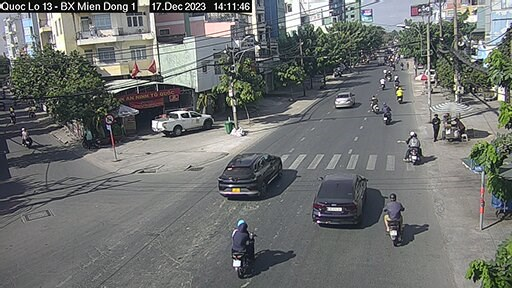car: (216, 149, 282, 199), (310, 173, 369, 225), (149, 109, 215, 135), (333, 90, 356, 109)
motorbike: (229, 220, 259, 279), (382, 193, 408, 249), (403, 129, 429, 170), (370, 92, 383, 115), (380, 103, 392, 126), (396, 86, 405, 104)
